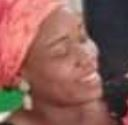without_facemask: (55, 61, 112, 102)
